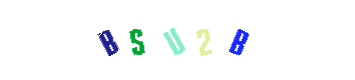2: (137, 0, 217, 80)
B: (96, 0, 176, 80), (164, 0, 244, 80)
S: (132, 0, 212, 80)
U: (133, 0, 213, 80)
